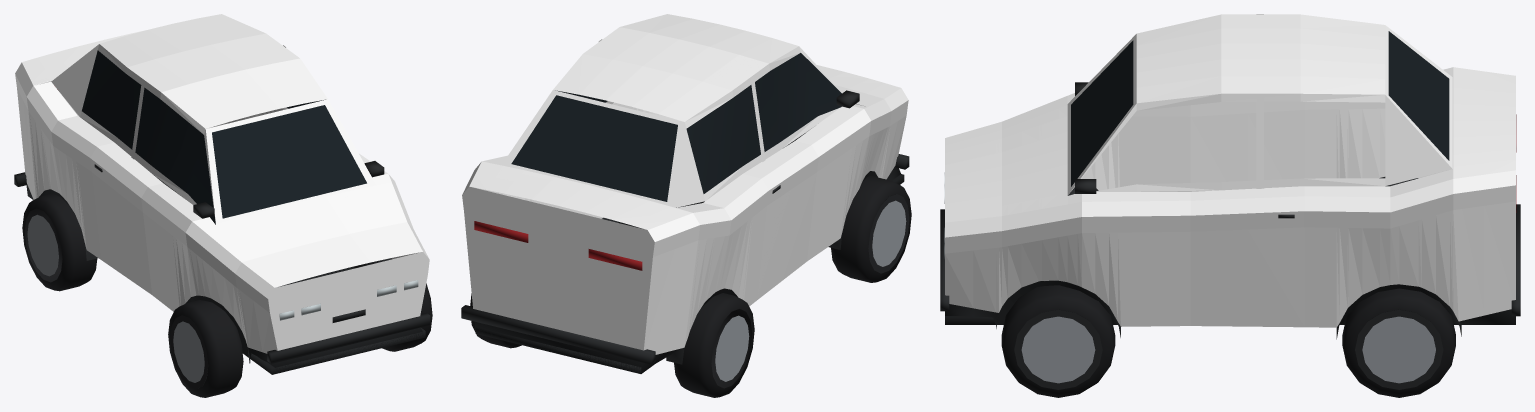
The model's file is kosame_seiva.glb.
The picture shows the model from 3 angles, left to right: view 1: azimuth 30°, elevation 25°; view 2: azimuth 150°, elevation 25°; view 3: azimuth 270°, elevation 25°; orthographic projection. The views are drawn at different scales.
Visible parts, largest first — view 1: Body_Paint, Body_Details, Mount_FrontLeft_Wheel_Details, Mount_RearLeft_Wheel_Details, Mount_FrontRight_Wheel_Details; view 2: Body_Paint, Body_Details, Mount_FrontLeft_Wheel_Details, Mount_RearLeft_Wheel_Details; view 3: Body_Paint, Body_Details, Mount_FrontRight_Wheel_Details, Mount_RearRight_Wheel_Details.
Boxes of the visible parts, bbox=[...] form: Body_Paint: bbox=[15, 14, 429, 353]; Body_Details: bbox=[14, 50, 430, 374]; Mount_FrontLeft_Wheel_Details: bbox=[168, 300, 243, 397]; Mount_RearLeft_Wheel_Details: bbox=[22, 193, 97, 291]; Mount_FrontRight_Wheel_Details: bbox=[382, 283, 432, 351]; Body_Paint: bbox=[462, 14, 908, 354]; Body_Details: bbox=[461, 53, 909, 373]; Mount_FrontLeft_Wheel_Details: bbox=[831, 175, 911, 282]; Mount_RearLeft_Wheel_Details: bbox=[674, 293, 754, 397]; Body_Paint: bbox=[945, 14, 1515, 327]; Body_Details: bbox=[940, 31, 1520, 339]; Mount_FrontRight_Wheel_Details: bbox=[1001, 285, 1115, 397]; Mount_RearRight_Wheel_Details: bbox=[1342, 288, 1455, 397].
Size of the model in its own units: 1.83 by 1.92 by 3.53.
2 materials, 1 textured.
